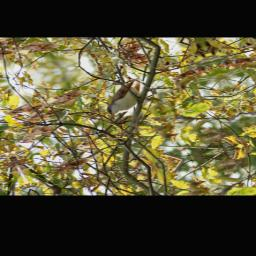Cuckoo: (88, 75, 155, 123)
